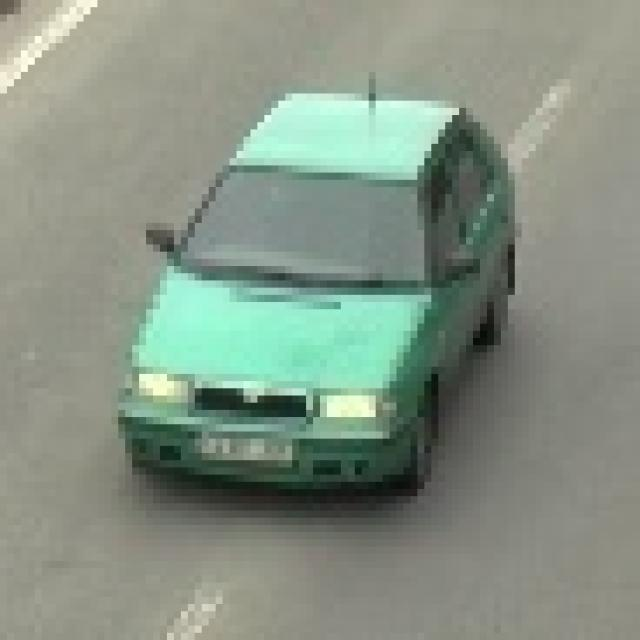green: (125, 99, 518, 526)
